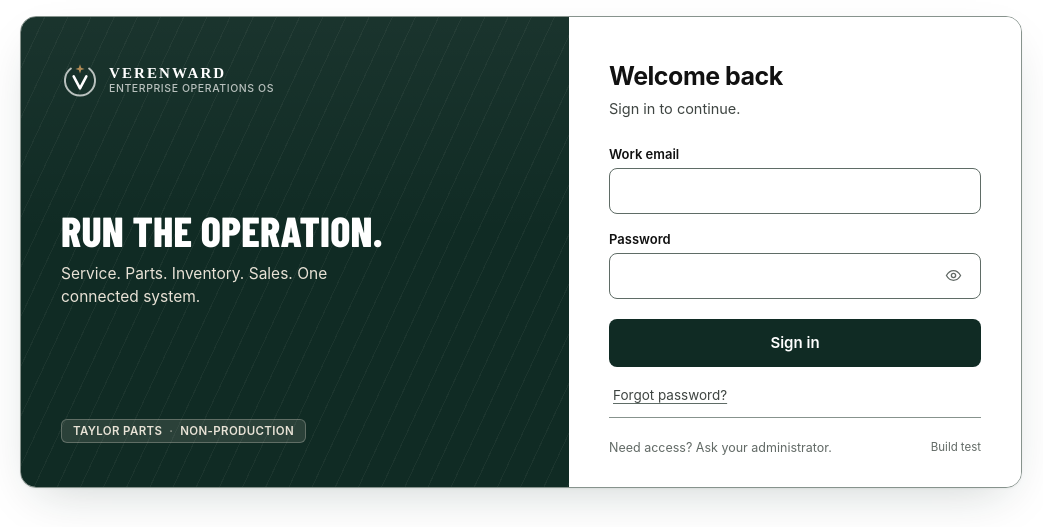
Login history navigation › pushes a history entry when entering recovery, so Back has something to return to
Expected: the heading "Welcome back" is shown, top-left (609, 61), bottom-right (783, 91)
Click the button "Forgot password?": x=670, y=395 top-left (609, 373), bottom-right (731, 417)
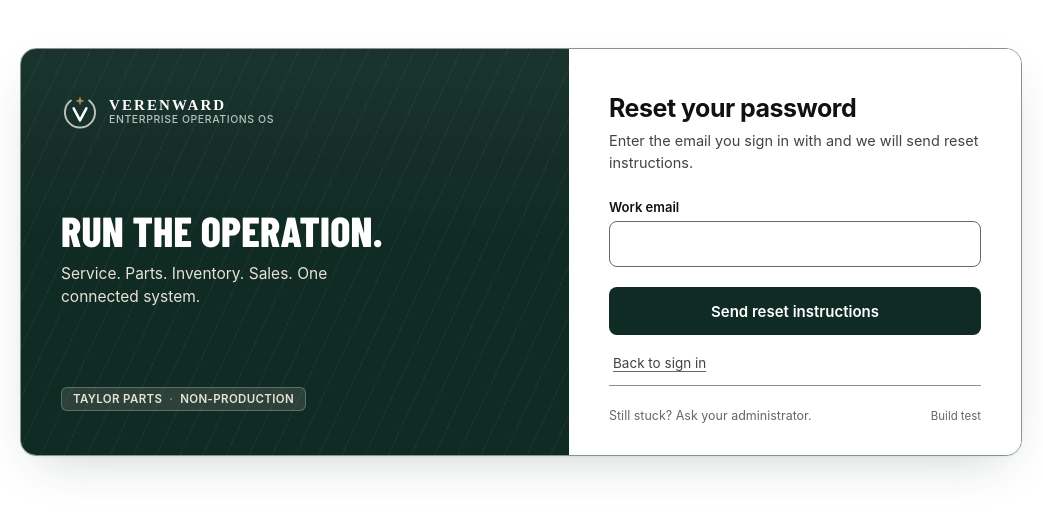
Result: the heading "Reset your password" is shown at top-left (609, 93), bottom-right (856, 123)
